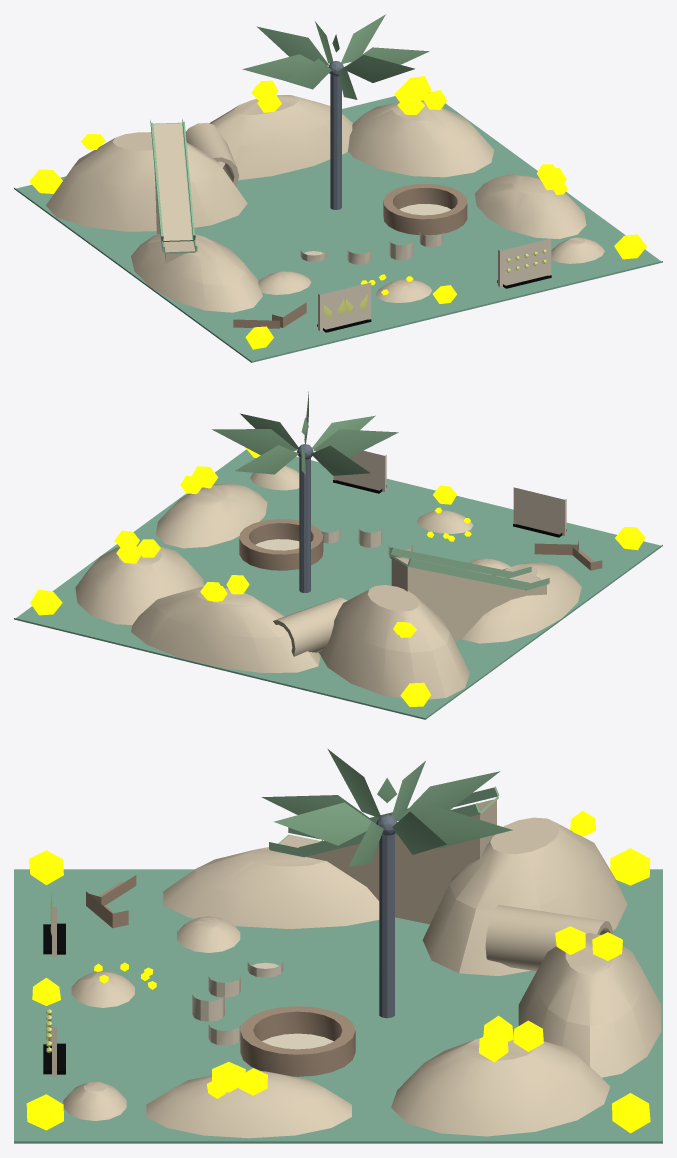
The picture shows the model from 3 angles, top to bottom: view 1: azimuth 30°, elevation 25°; view 2: azimuth 150°, elevation 25°; view 3: azimuth 270°, elevation 25°; orthographic projection. The views are drawn at different scales.
Parts seen in each view (by area): view 1: Terrain, Safety_Pad, Tree_Canopy, Foliage, Sensory_Panels, Sand_Rim, Tree_Trunk, Stepping_Pods, Mini_Slide, Balance_Path; view 2: Terrain, Safety_Pad, Tree_Canopy, Foliage, Sensory_Panels, Sand_Rim, Mini_Slide, Tree_Trunk, Balance_Path, Stepping_Pods; view 3: Safety_Pad, Terrain, Tree_Canopy, Foliage, Sand_Rim, Tree_Trunk, Stepping_Pods, Mini_Slide, Balance_Path, Panel_Feet, Dig_Sand.
Part boxes in pixels (x1,y1,x2,y2): Terrain: (46, 95, 604, 312); Safety_Pad: (14, 92, 662, 362); Tree_Canopy: (242, 14, 429, 99); Foliage: (29, 76, 646, 349); Sensory_Panels: (318, 238, 551, 330); Sand_Rim: (383, 184, 467, 235); Tree_Trunk: (328, 61, 343, 209); Stepping_Pods: (300, 232, 443, 264); Mini_Slide: (150, 119, 197, 253); Balance_Path: (233, 302, 306, 328); Terrain: (75, 465, 581, 699); Safety_Pad: (14, 449, 662, 719); Tree_Canopy: (212, 391, 398, 475); Foliage: (30, 447, 645, 706); Sensory_Panels: (333, 450, 566, 535); Sand_Rim: (239, 519, 323, 570); Mini_Slide: (389, 547, 549, 590); Tree_Trunk: (297, 444, 313, 592); Balance_Path: (534, 540, 602, 570); Stepping_Pods: (321, 528, 412, 559); Safety_Pad: (14, 869, 662, 1143); Terrain: (63, 799, 661, 1138); Tree_Canopy: (261, 749, 512, 866); Foliage: (26, 811, 650, 1133); Sand_Rim: (240, 1006, 355, 1076); Tree_Trunk: (376, 814, 397, 1018); Stepping_Pods: (192, 962, 283, 1045); Mini_Slide: (269, 786, 499, 857); Balance_Path: (86, 875, 136, 928); Panel_Feet: (43, 923, 65, 1074); Dig_Sand: (262, 1033, 333, 1049).
Size of what is drawn, in the model's own units: 8 by 3.25 by 8.
11 materials, 2 textured.
